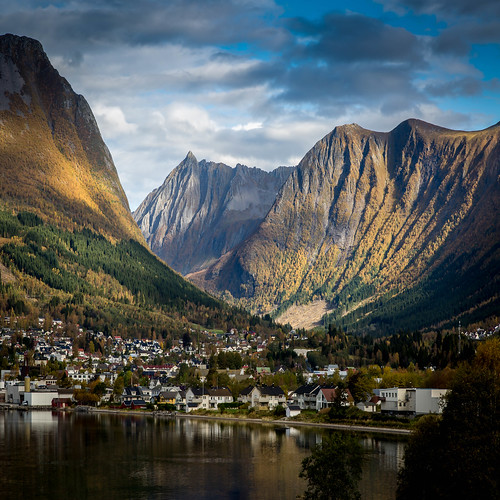building: (356, 379, 457, 435), (3, 371, 113, 410), (292, 377, 355, 421), (170, 380, 245, 414), (238, 377, 292, 414), (124, 376, 178, 411)
mountain: (248, 106, 500, 342), (1, 51, 178, 350), (116, 135, 290, 273)
river: (6, 416, 460, 500)
sky: (1, 1, 487, 127)
tree: (411, 343, 500, 500), (295, 437, 374, 500)
